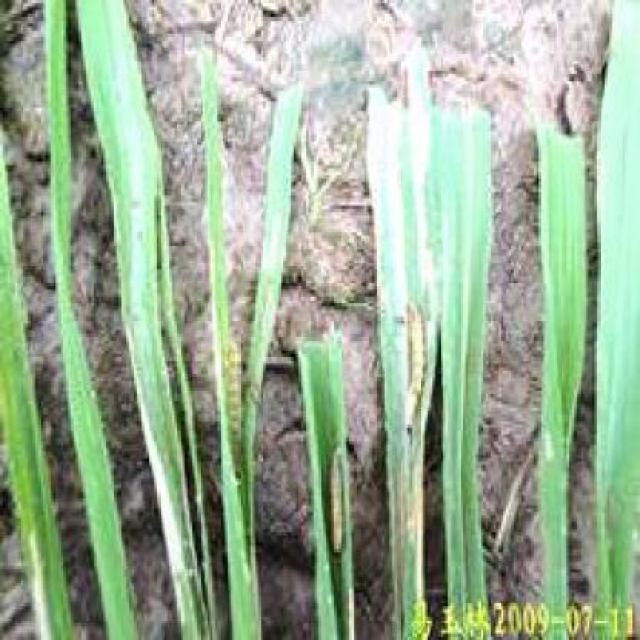leaf-folder: (197, 316, 266, 490), (318, 422, 380, 564)
